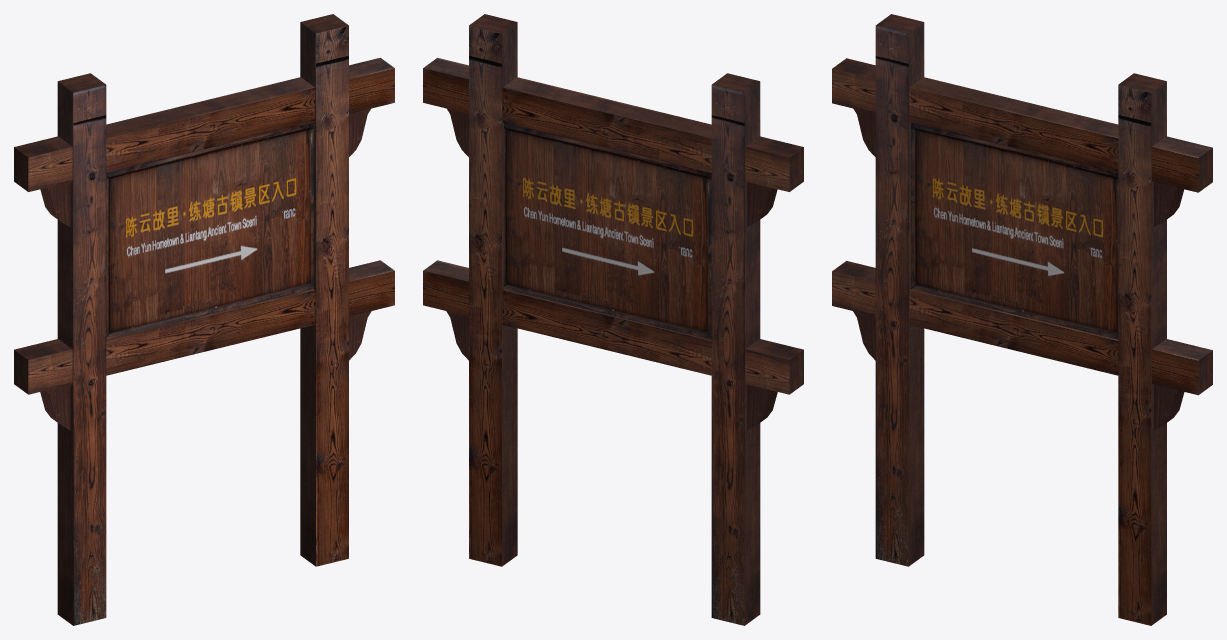
File: Prop_RoadGuide01.FBX
3 renders of one model, left to right at view 1: azimuth 30°, elevation 25°; view 2: azimuth 150°, elevation 25°; view 3: azimuth 330°, elevation 25°, orthographic.
Parts seen in each view (by area): view 1: Prop_RoadGuide01; view 2: Prop_RoadGuide01; view 3: Prop_RoadGuide01.
Part boxes in pixels (x1,y1,x2,y2): Prop_RoadGuide01: (14,14,394,625); Prop_RoadGuide01: (423,14,803,625); Prop_RoadGuide01: (832,14,1212,625).
Bounding box in the file's own units: 128 × 9.57 × 178.
